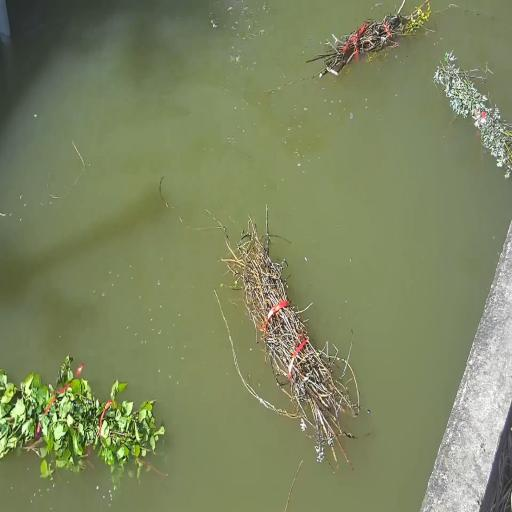twig: (223, 206, 359, 464), (0, 355, 165, 477), (433, 51, 512, 177), (306, 0, 430, 77)
